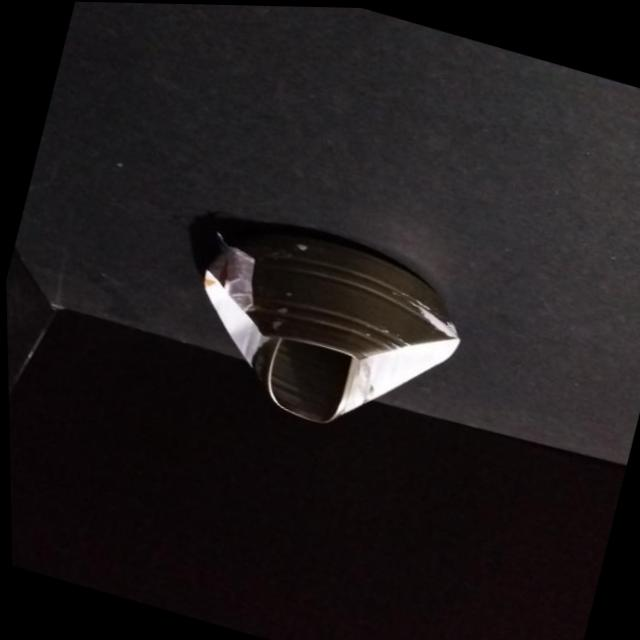metal: (191, 215, 458, 422)
